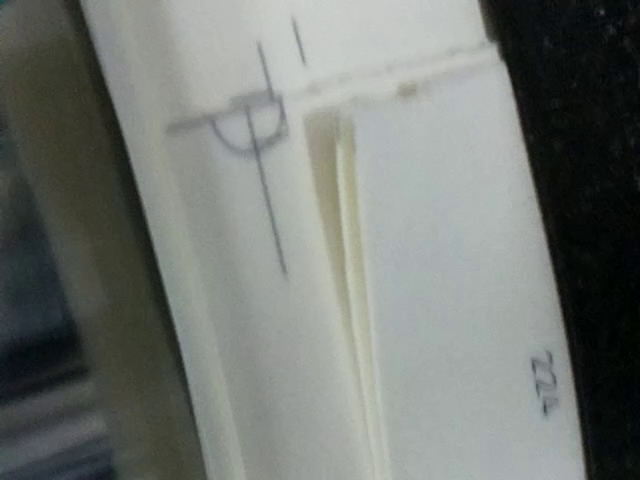misaligned: (162, 42, 302, 167)
